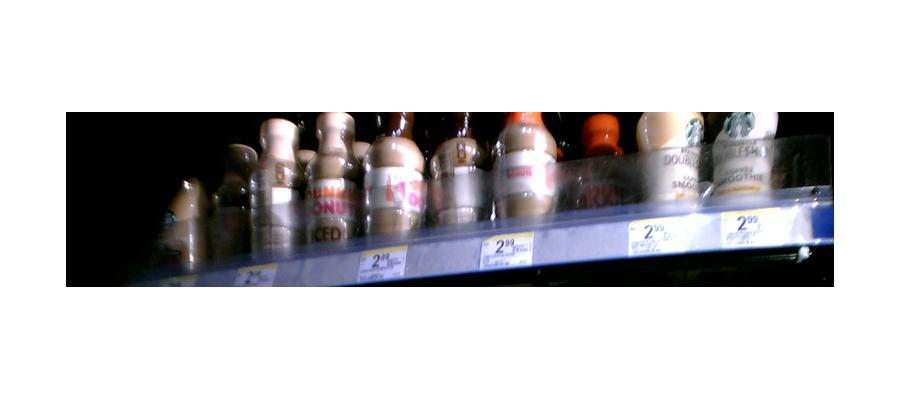bottle: (361, 109, 422, 242), (490, 110, 559, 225), (303, 112, 356, 252), (426, 109, 488, 228), (250, 117, 301, 259), (714, 104, 778, 204), (642, 107, 704, 209), (577, 108, 629, 206), (208, 137, 249, 260), (157, 166, 202, 274)
